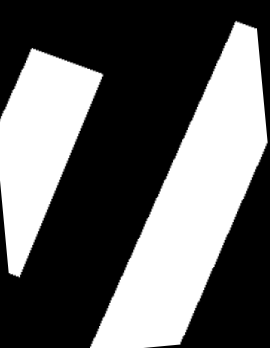parkingspot: (90, 21, 268, 348), (0, 48, 103, 277)
